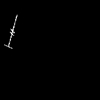treble_crochet: (8, 17, 16, 46)
